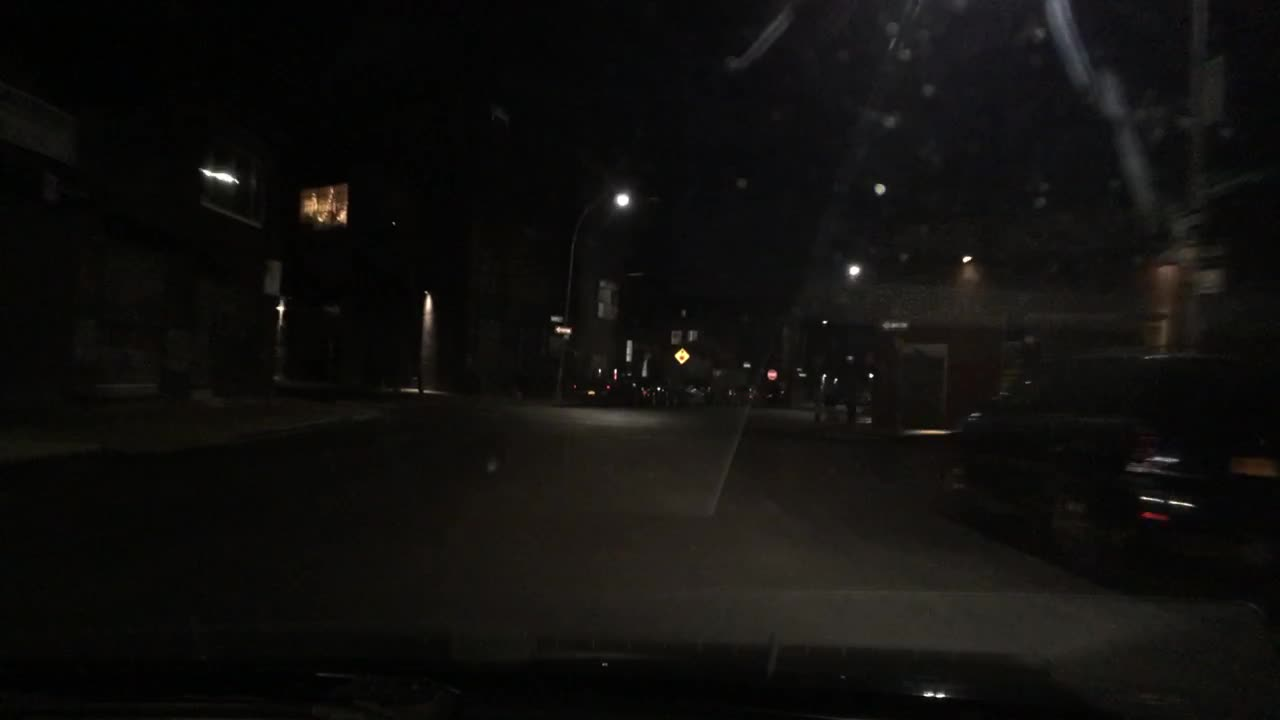car: (941, 342, 1278, 590), (569, 368, 632, 409), (664, 377, 702, 409), (716, 374, 755, 402), (635, 376, 667, 408), (695, 375, 721, 403), (751, 384, 783, 402)
traffic sign: (1171, 239, 1230, 262), (1167, 207, 1201, 242), (263, 260, 283, 299), (877, 317, 908, 330), (673, 345, 689, 365), (555, 324, 571, 333), (764, 367, 775, 379), (550, 314, 563, 322)
